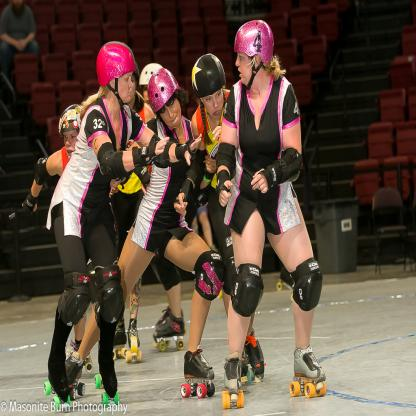Helmet: (234, 18, 275, 91), (96, 39, 138, 110), (147, 66, 187, 133), (190, 54, 229, 118), (57, 98, 85, 130), (138, 60, 160, 95)
